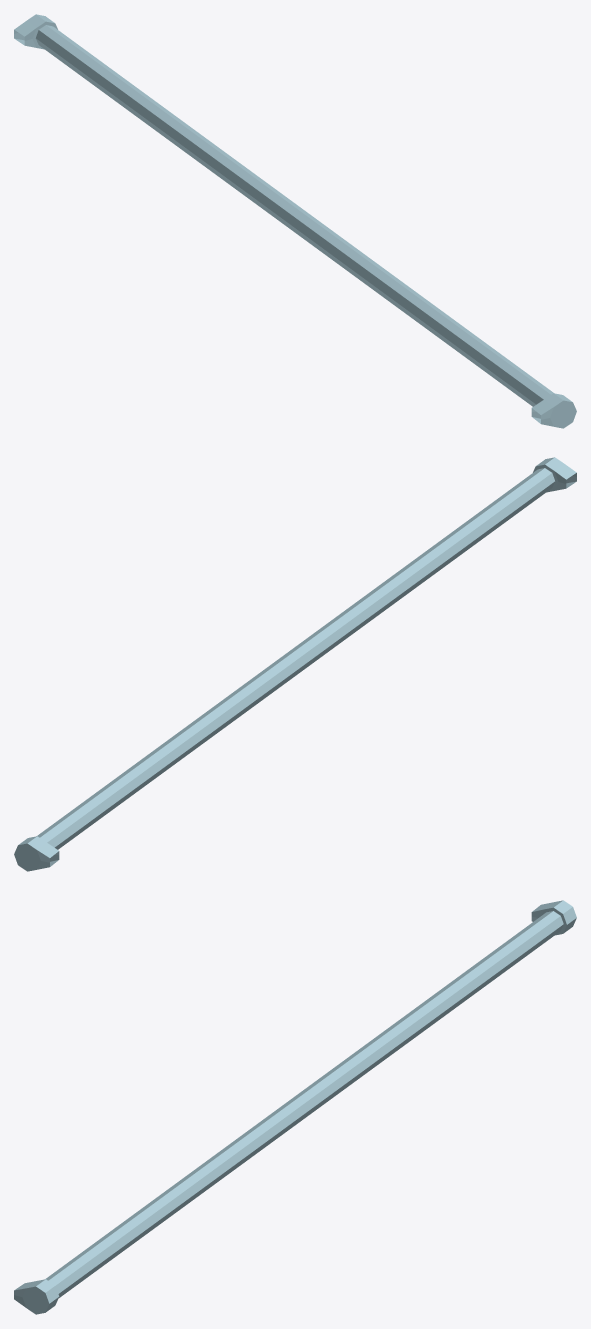
File: Livingroom2_Cornice.fbx
3 renders of one model, top to bottom at view 1: azimuth 30°, elevation 25°; view 2: azimuth 150°, elevation 25°; view 3: azimuth 330°, elevation 25°, orthographic.
Visible parts, largest first — view 1: Livingroom2_Cornice; view 2: Livingroom2_Cornice; view 3: Livingroom2_Cornice.
Part boxes in pixels (left/top/right/bottom): Livingroom2_Cornice: left=14, top=14, right=576, bottom=428; Livingroom2_Cornice: left=14, top=457, right=576, bottom=871; Livingroom2_Cornice: left=14, top=900, right=576, bottom=1314.
Size of the model in its own units: 18.65 by 14.06 by 478.
